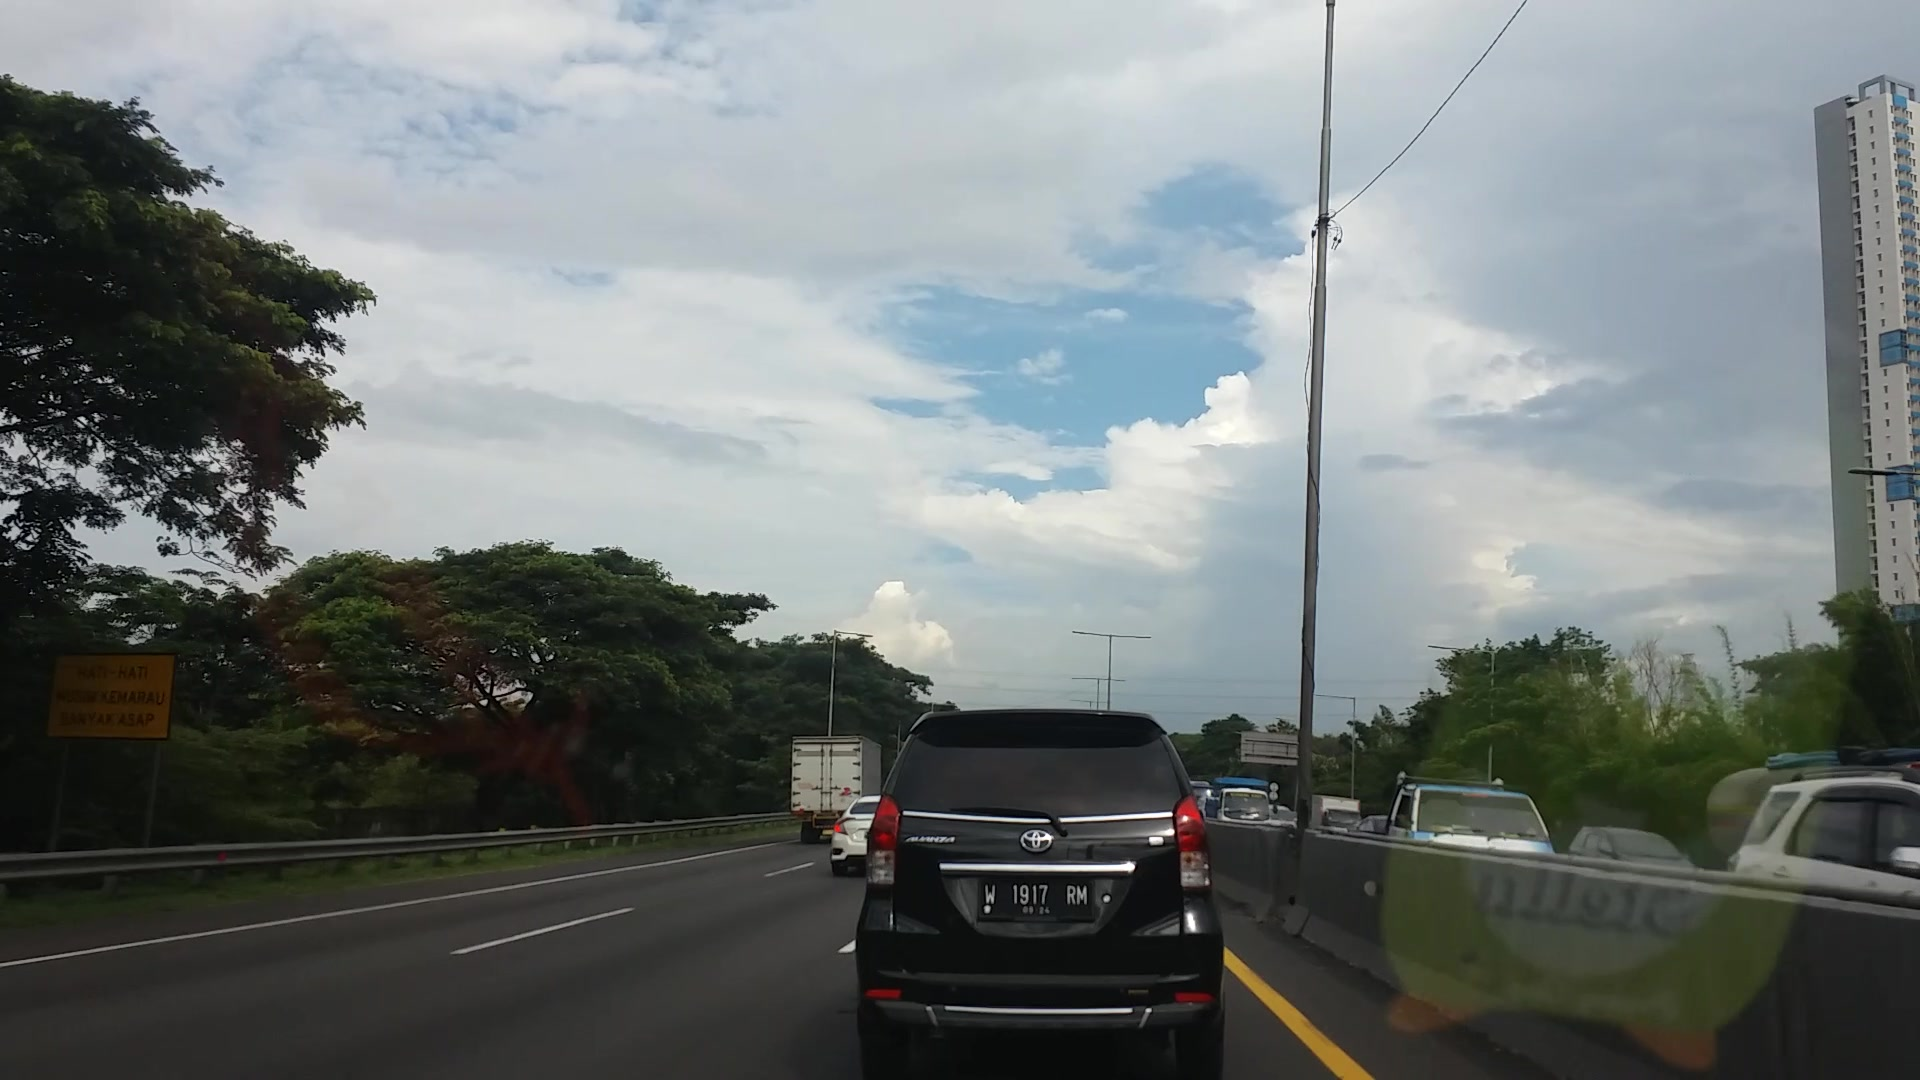plate_positive: (976, 876, 1095, 923)
